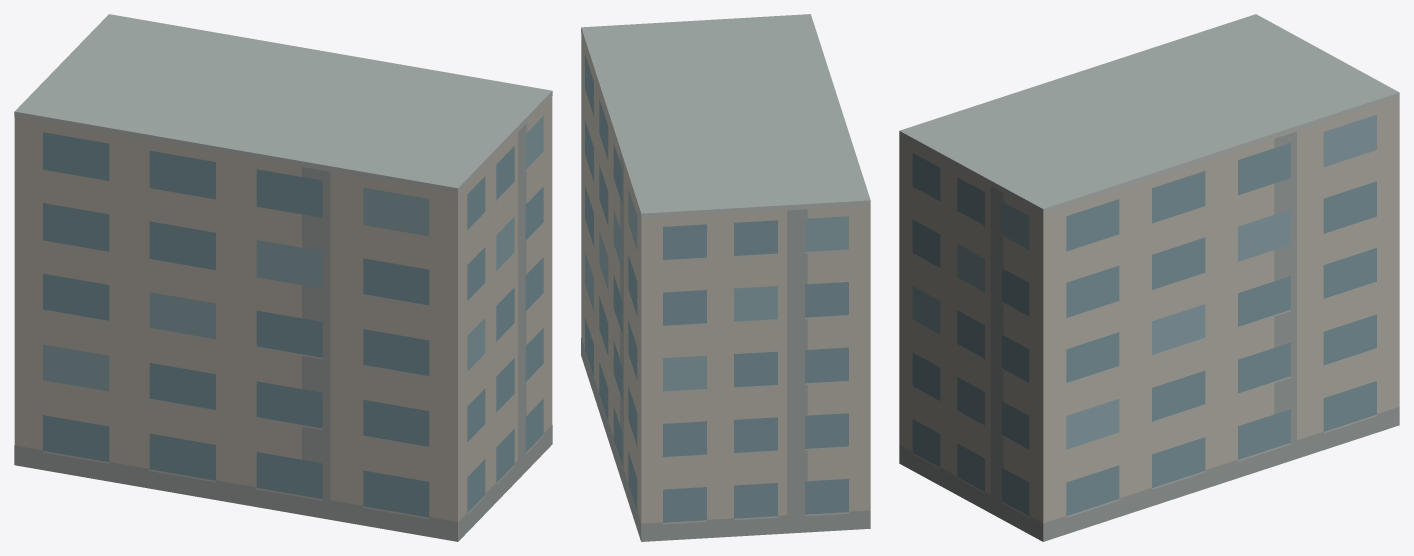
Rendered from residential-872fa57f-01b1-43e8-891b-403b293c0be6.glb.
The picture shows the model from 3 angles, left to right: view 1: azimuth 30°, elevation 25°; view 2: azimuth 150°, elevation 25°; view 3: azimuth 270°, elevation 25°; orthographic projection. The views are drawn at different scales.
Visible parts, largest first — view 1: residential-872fa57f-01b1-43e8-891b-403b293c0be6.tmp; view 2: residential-872fa57f-01b1-43e8-891b-403b293c0be6.tmp; view 3: residential-872fa57f-01b1-43e8-891b-403b293c0be6.tmp.
Boxes of the visible parts, bbox=[...] form: residential-872fa57f-01b1-43e8-891b-403b293c0be6.tmp: bbox=[14, 14, 552, 541]; residential-872fa57f-01b1-43e8-891b-403b293c0be6.tmp: bbox=[581, 14, 870, 541]; residential-872fa57f-01b1-43e8-891b-403b293c0be6.tmp: bbox=[899, 14, 1399, 541].
Bounding box in the file's own units: 19.19 × 15.25 × 20.79.
